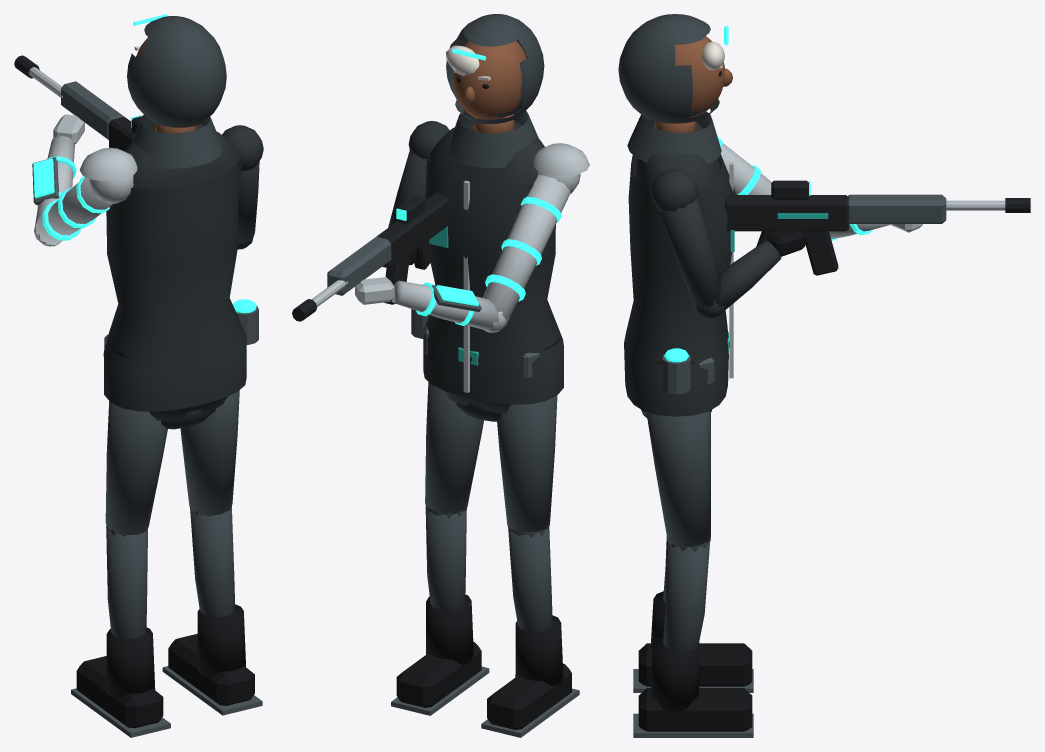
File: nyx.glb
3 renders of one model, left to right at view 1: azimuth 30°, elevation 25°; view 2: azimuth 150°, elevation 25°; view 3: azimuth 270°, elevation 25°, orthographic.
Visible parts, largest first — view 1: Nyx_Body; view 2: Nyx_Body; view 3: Nyx_Body.
Boxes of the visible parts, box(x1,y1,x2,y2) form: Nyx_Body: box(14, 14, 263, 737); Nyx_Body: box(292, 14, 589, 737); Nyx_Body: box(618, 14, 1030, 737).
Size of what is drawn, in the model's own units: 0.5153 by 1.8 by 0.9773.
1 material, 1 textured.
